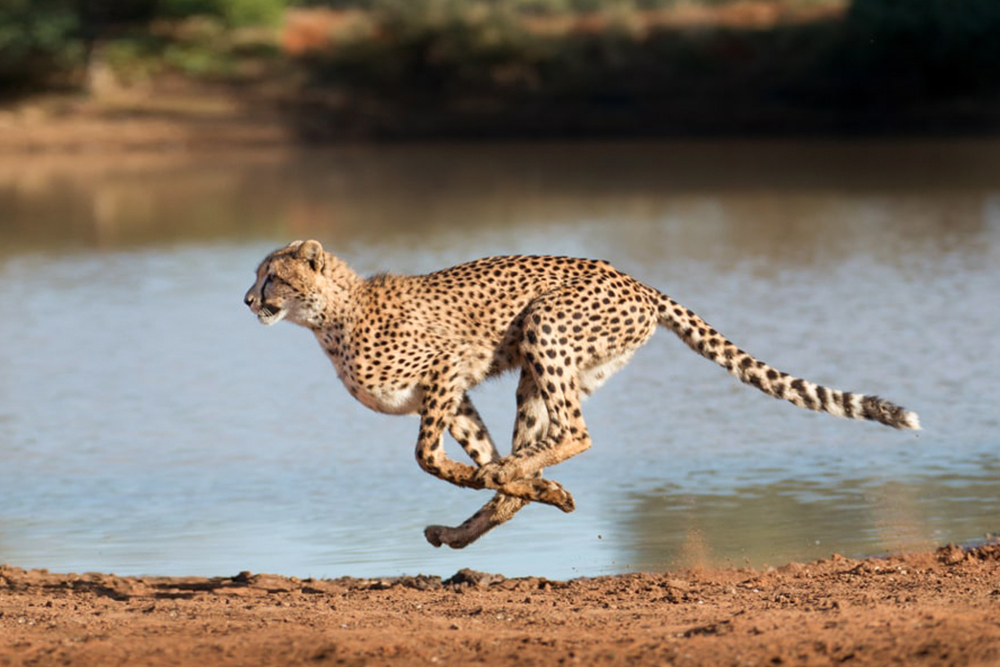cheetah: (222, 229, 363, 351)
